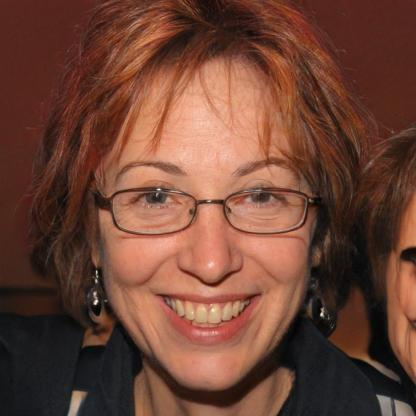eyeee: (235, 182, 292, 210), (125, 185, 185, 211)
mouthhz: (152, 290, 266, 347), (175, 200, 244, 286)
